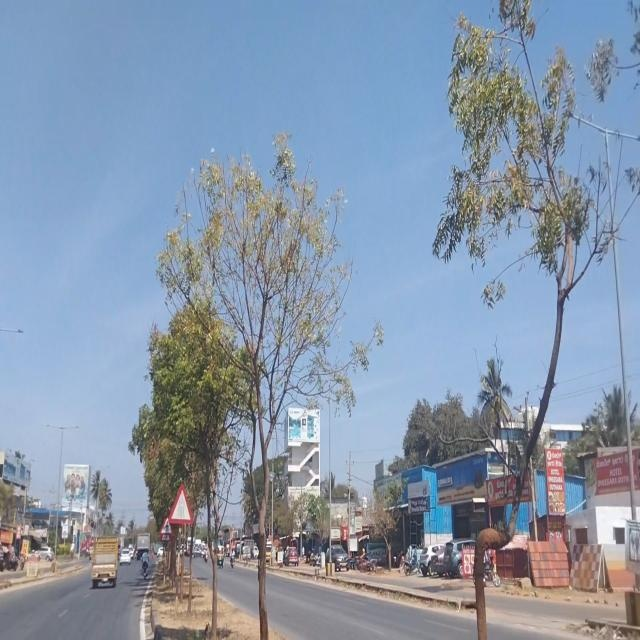bien_nguy_hiem: (170, 484, 192, 526), (160, 514, 172, 538)
